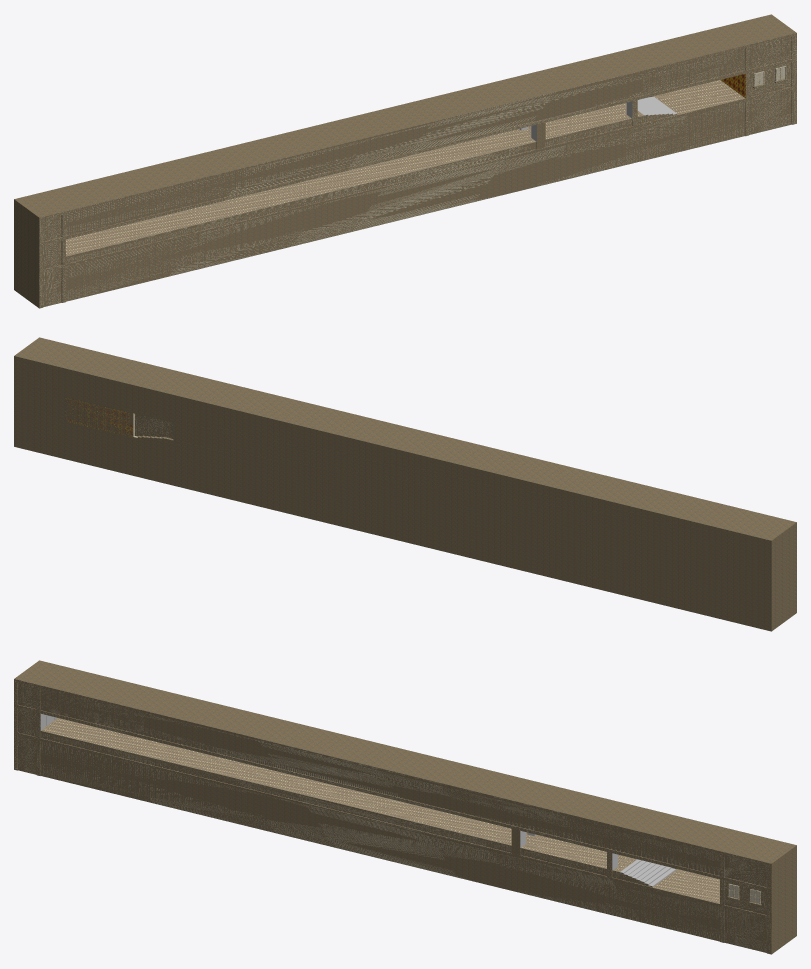
File: intro_casino01.fbx
3 views of the same model, one above another, from view 1: azimuth 30°, elevation 25°; view 2: azimuth 150°, elevation 25°; view 3: azimuth 330°, elevation 25° (orthographic).
Parts seen in each view (by area): view 1: ID16, SketchUp, ID261, ID121; view 2: SketchUp, ID113, ID97; view 3: ID16, SketchUp, ID261, ID121, ID55.
Boxes of the visible parts, x1,y1,x2,y2 form: ID16: (39, 33, 796, 308); SketchUp: (14, 14, 796, 307); ID261: (66, 103, 644, 256); ID121: (653, 80, 745, 114); SketchUp: (14, 337, 796, 631); ID113: (65, 397, 133, 437); ID97: (135, 414, 173, 438); ID16: (14, 679, 771, 954); SketchUp: (14, 660, 796, 953); ID261: (41, 718, 636, 871); ID121: (652, 869, 719, 903); ID55: (620, 859, 675, 886).
Bounding box in the file's own units: 4424 × 507 × 265.
